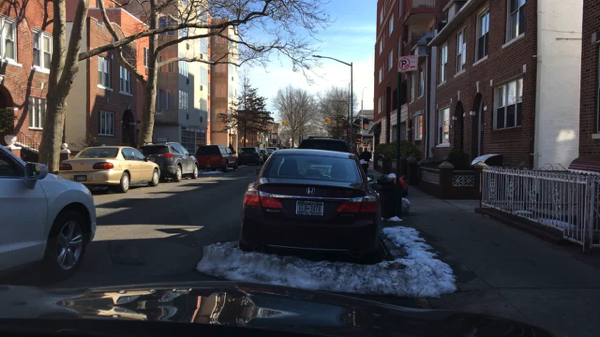car: (239, 152, 381, 260), (0, 143, 97, 279), (59, 146, 160, 193), (137, 140, 199, 181), (195, 145, 238, 170), (294, 135, 352, 152), (235, 146, 265, 166), (260, 149, 268, 160), (266, 148, 273, 157), (279, 143, 288, 148), (272, 146, 279, 151)
person: (359, 146, 374, 174), (228, 144, 235, 153)
traffic light: (324, 116, 327, 128), (328, 116, 331, 125), (280, 120, 282, 129)
traffic sign: (398, 56, 419, 74)
